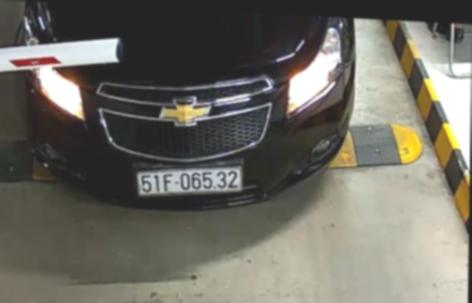License_Plate: (131, 163, 244, 199)
